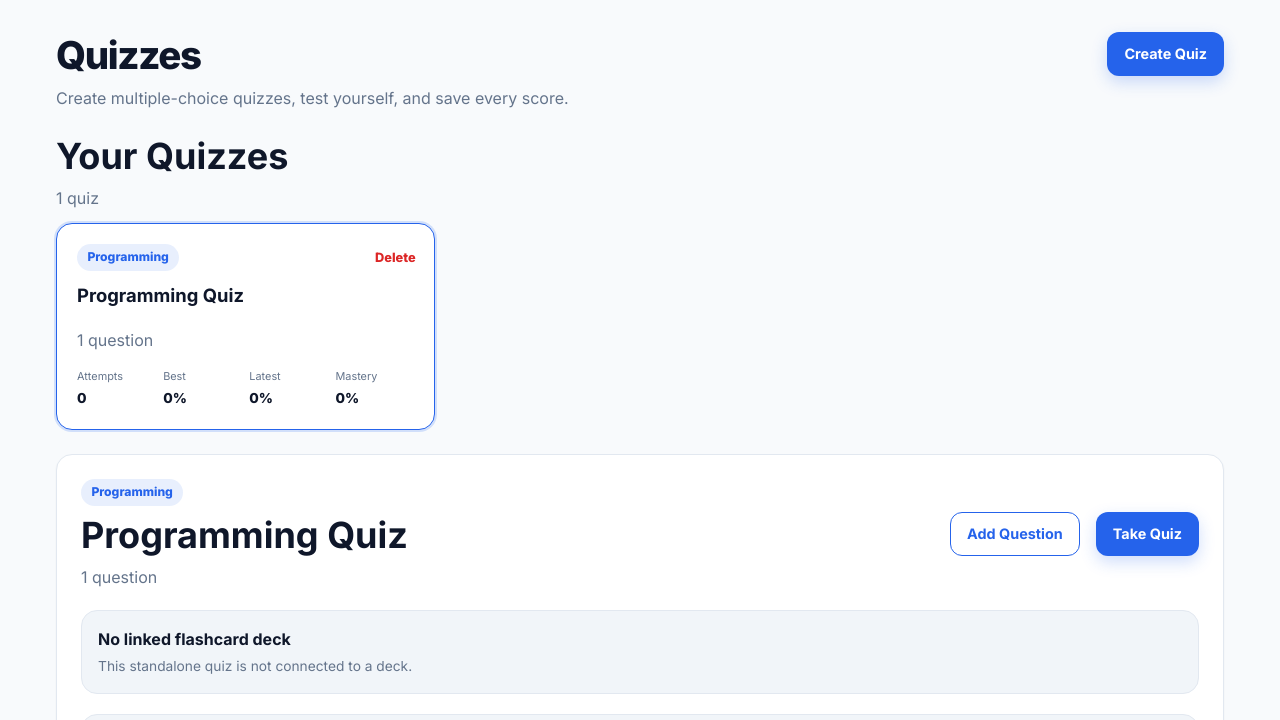
Test case: shows a selected quiz and opens take-quiz mode
Expected: the text "Programming Quiz" is shown 2 times, [77, 283, 244, 308]; [81, 514, 408, 557]
Expected: the text "No linked flashcard deck" is shown, [98, 629, 291, 649]
Click the button "Take Quiz". click: (1147,534)
box: [1096, 512, 1199, 556]
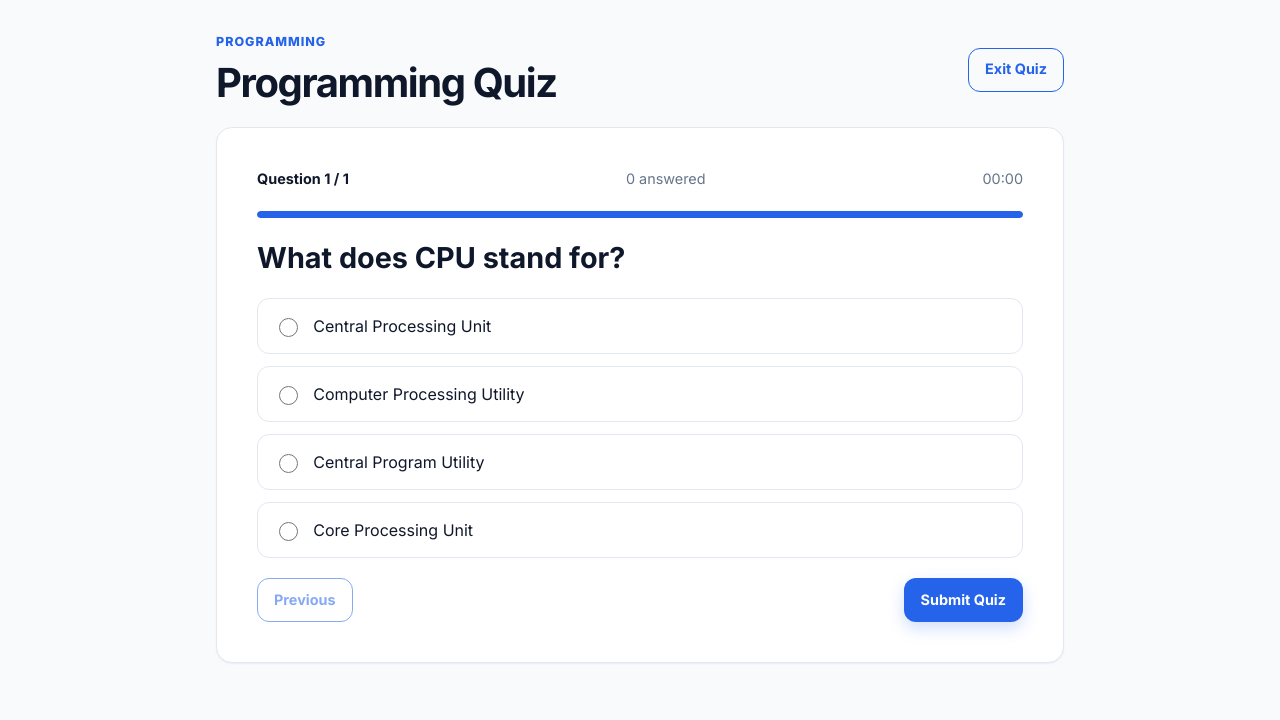
Expected: the text "Question 1 / 1" is shown, [257, 168, 349, 191]
